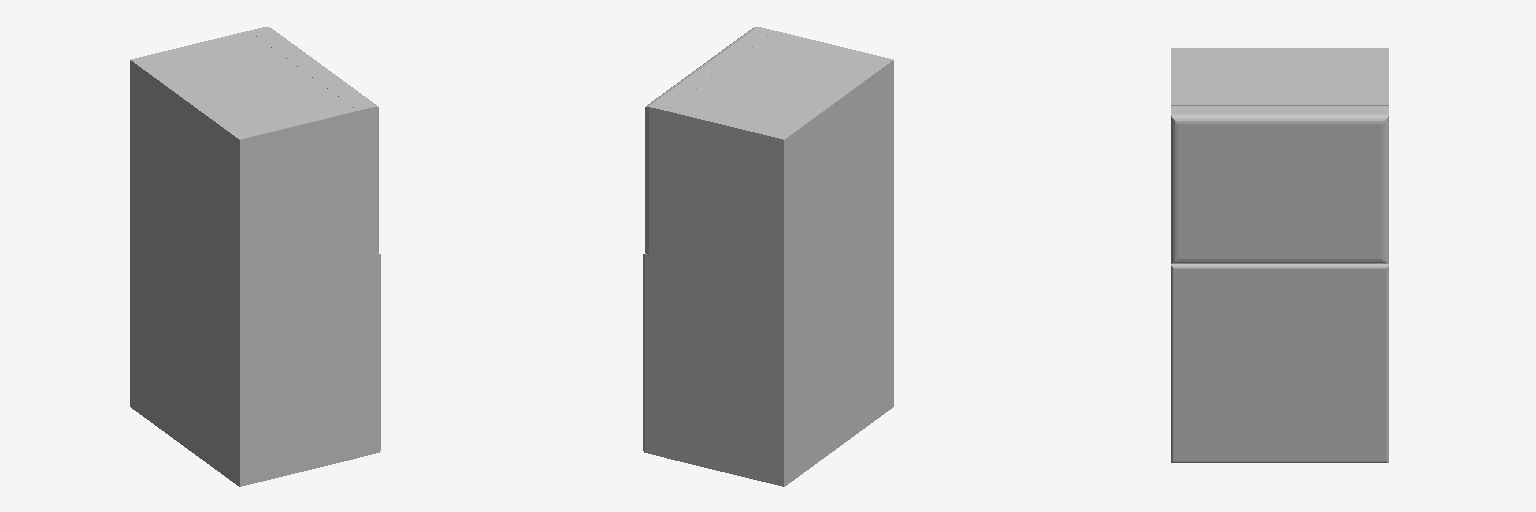
The model's file is fridge.obj.
3 renders of one model, left to right at view 1: azimuth 30°, elevation 25°; view 2: azimuth 150°, elevation 25°; view 3: azimuth 270°, elevation 25°, orthographic.
Visible parts, largest first — view 1: Base_Cube.019, Freezer_Cube.021, Fridge_Cube.020; view 2: Base_Cube.019, Freezer_Cube.021, Fridge_Cube.020; view 3: Fridge_Cube.020, Freezer_Cube.021, Base_Cube.019.
Boxes of the visible parts, <box> form: Base_Cube.019: <box>130,31,357,486</box>; Freezer_Cube.021: <box>250,27,378,259</box>; Fridge_Cube.020: <box>358,253,380,457</box>; Base_Cube.019: <box>666,31,893,486</box>; Freezer_Cube.021: <box>645,27,773,258</box>; Fridge_Cube.020: <box>643,253,665,457</box>; Fridge_Cube.020: <box>1171,264,1388,462</box>; Freezer_Cube.021: <box>1171,106,1388,263</box>; Base_Cube.019: <box>1171,48,1388,105</box>.
Bounding box in the file's own units: 1.2 × 2.8 × 1.6.